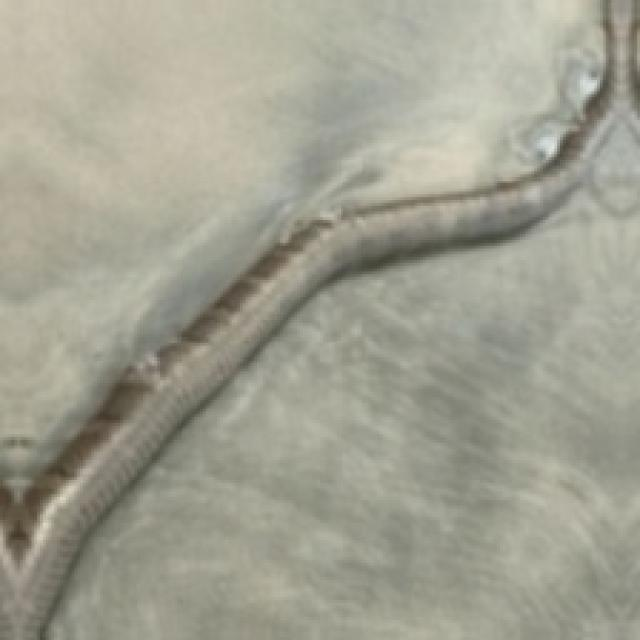king cobra: (0, 0, 637, 637), (420, 9, 546, 131)
